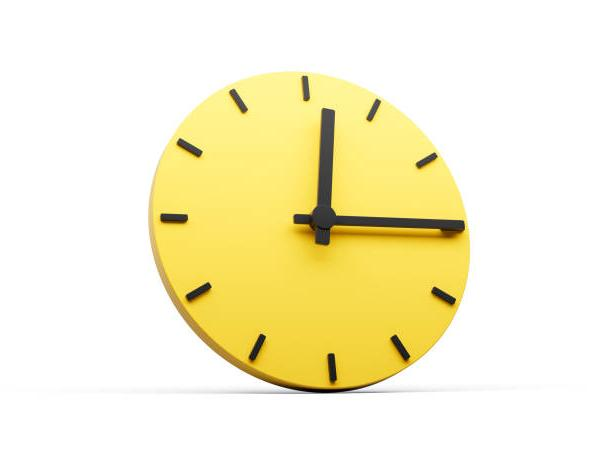clock: (145, 68, 469, 387)
